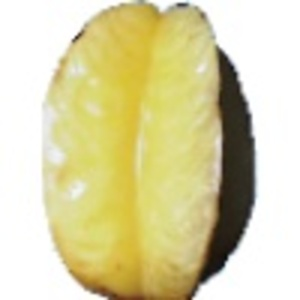carambola: (41, 1, 260, 300)
